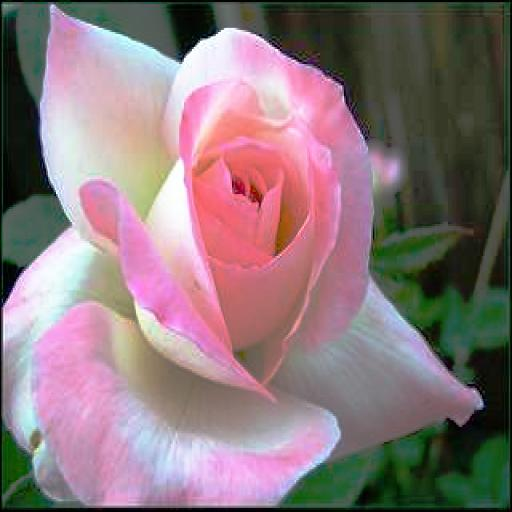tulip: (7, 4, 512, 512)
